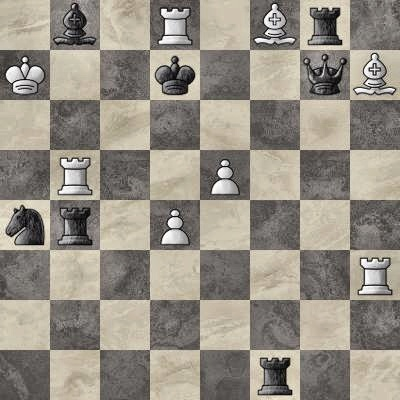black-bishop: (50, 0, 100, 50)
black-king: (150, 50, 200, 100)
black-knight: (0, 200, 50, 250)
black-queen: (300, 50, 350, 100)
black-rook: (300, 0, 350, 50), (50, 200, 100, 250), (250, 350, 300, 400)
white-bishop: (250, 0, 300, 50), (350, 50, 400, 100)
white-king: (0, 50, 50, 100)
white-pawn: (200, 150, 250, 200), (150, 200, 200, 250)
white-rook: (150, 0, 200, 50), (50, 150, 100, 200), (350, 250, 400, 300)
